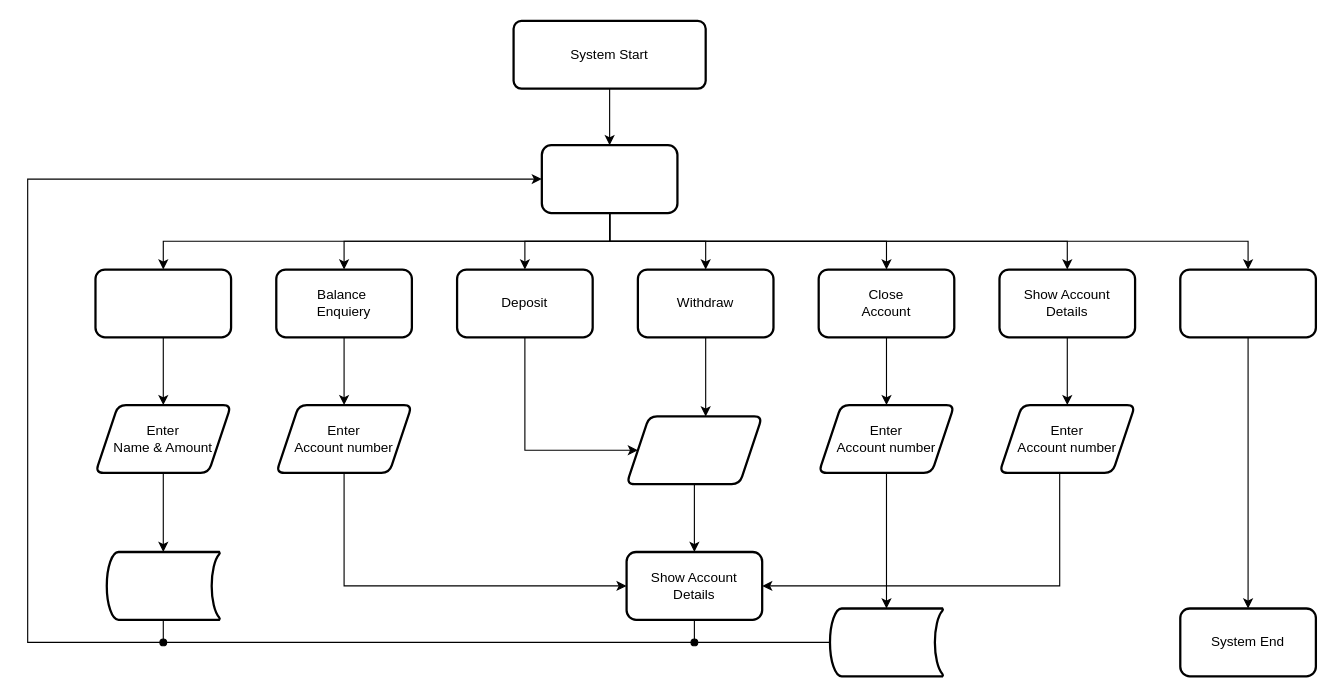
This 1337x696 diagram has some shape labels left out. Here are the shapes that lost their labels. From the top down, the centre of each, then its label:
the point at 609,179: User Menu
the point at 163,303: Open Account
the point at 1247,303: Quit
the point at 694,450: Enter Account number & Amount
the point at 162,585: Store Account to file
the point at 886,642: Delete Account from file
